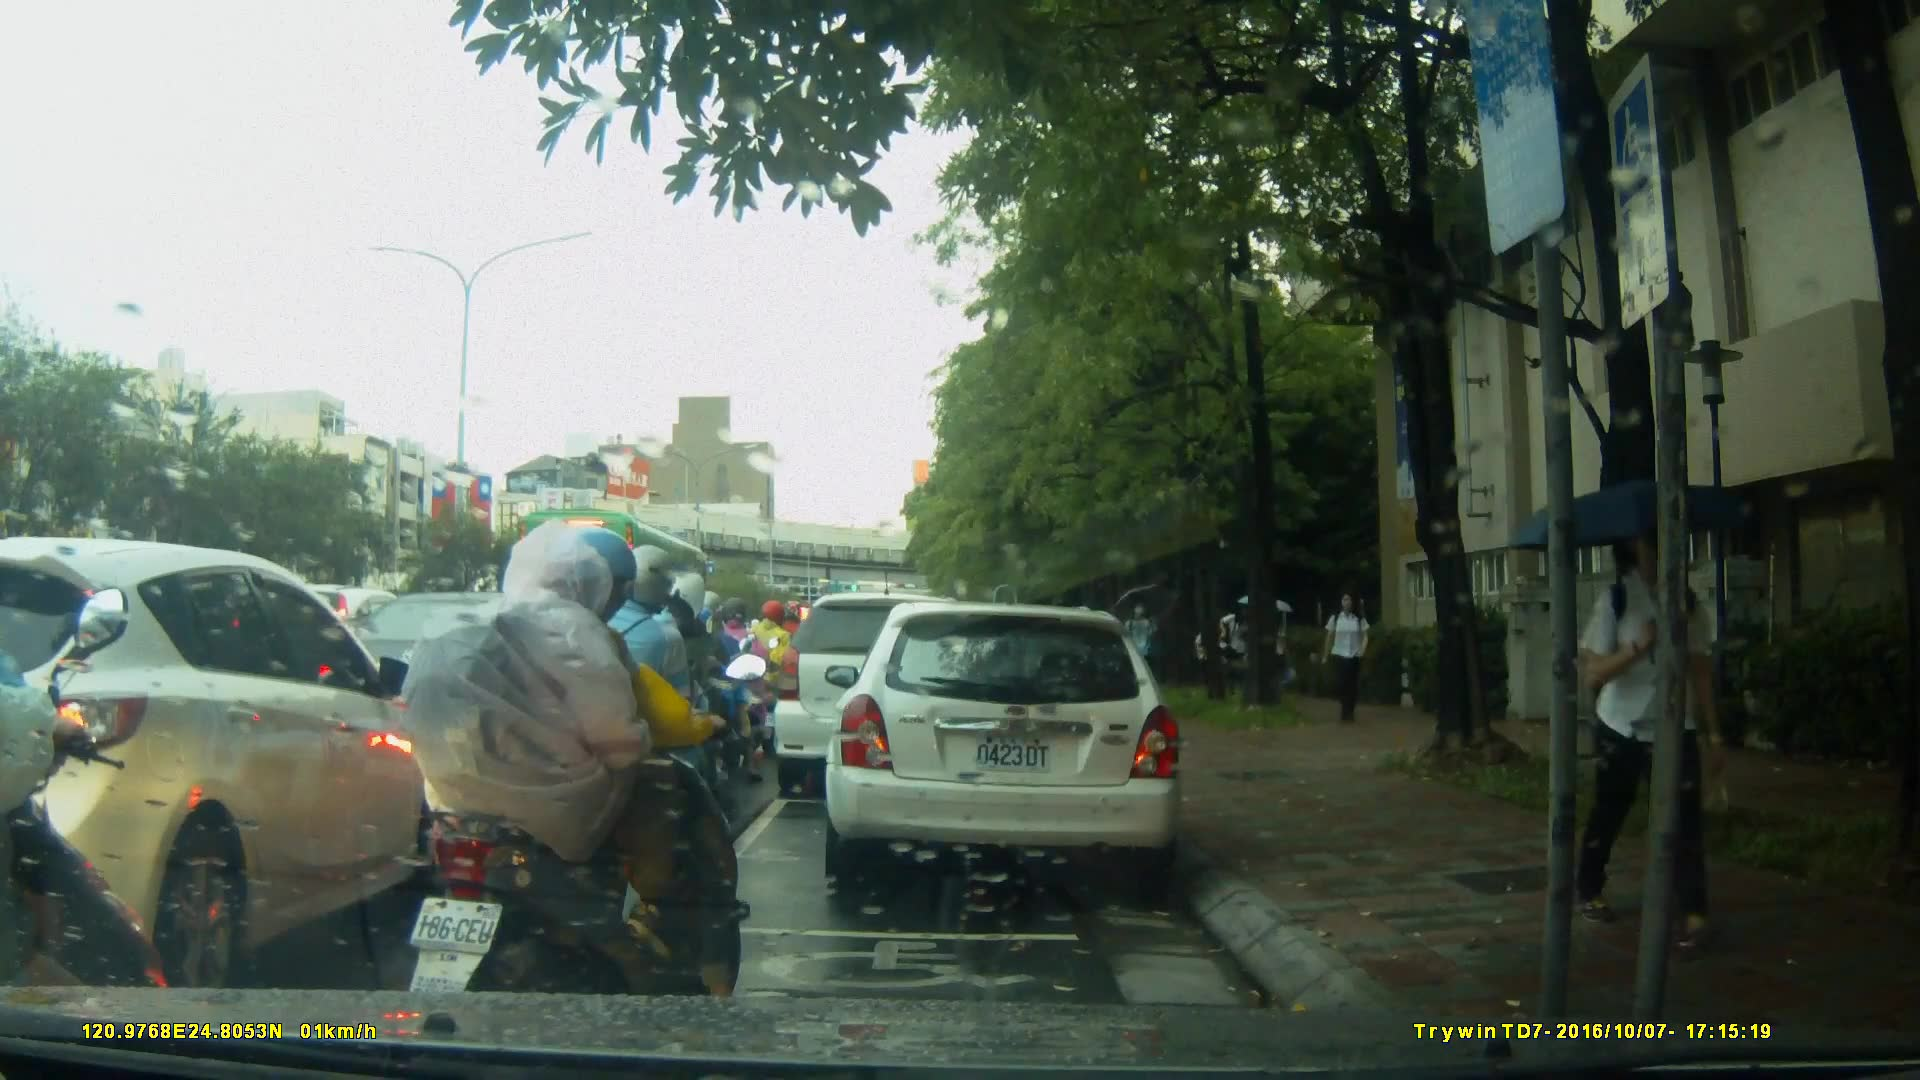pedestrian: (1585, 502, 1739, 949), (1317, 589, 1374, 726), (1122, 594, 1161, 705)
rider: (393, 514, 753, 1073), (1, 585, 178, 1080), (541, 546, 732, 887), (608, 570, 744, 864), (705, 601, 779, 765), (750, 603, 808, 744)
vehicle: (1, 536, 442, 988), (822, 604, 1186, 881), (774, 595, 995, 802), (528, 510, 732, 668)
